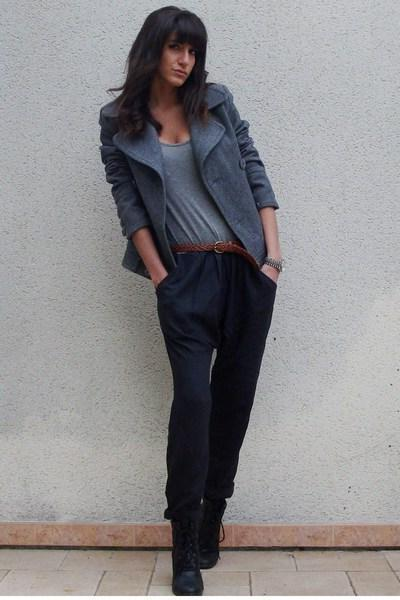jacket: (108, 75, 278, 276)
trousers: (149, 235, 277, 516)
vest: (133, 107, 244, 248)
